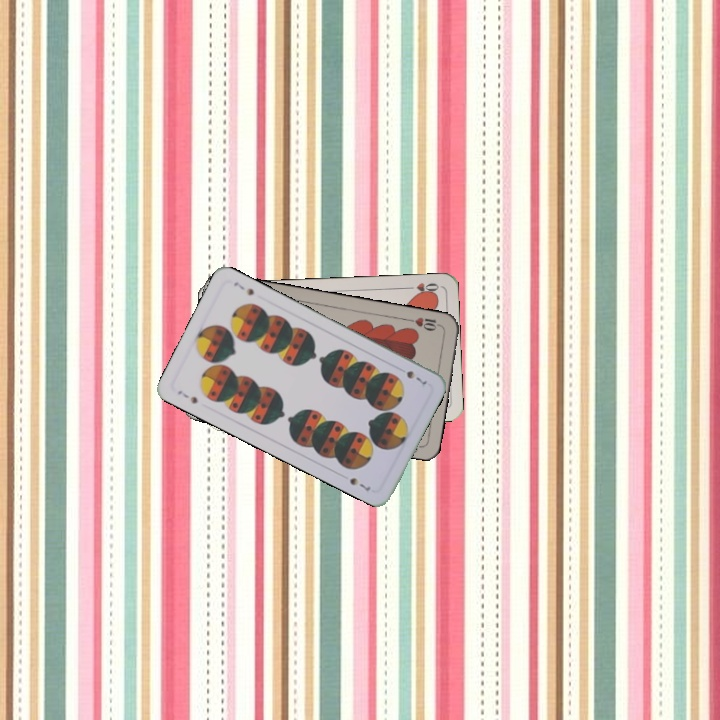H10: (404, 313, 444, 334)
HO: (401, 279, 441, 297)
S7: (402, 366, 429, 387), (173, 386, 200, 406)
